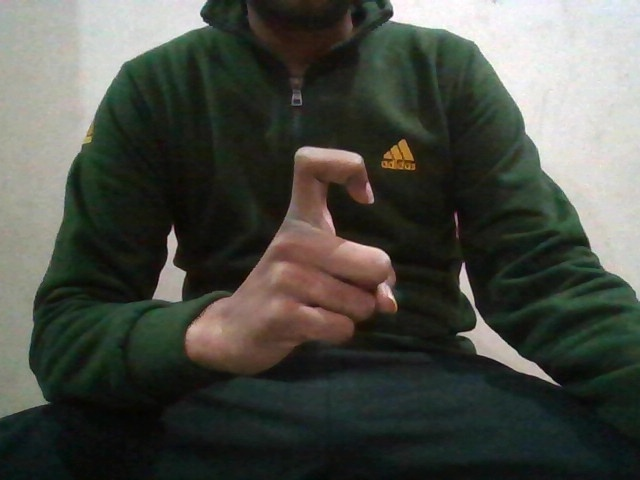P: (252, 142, 394, 354)
